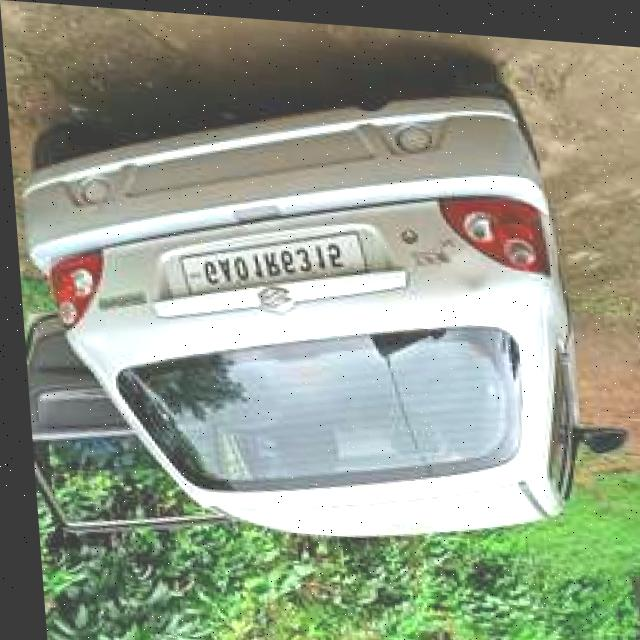plate: (174, 216, 367, 300)
